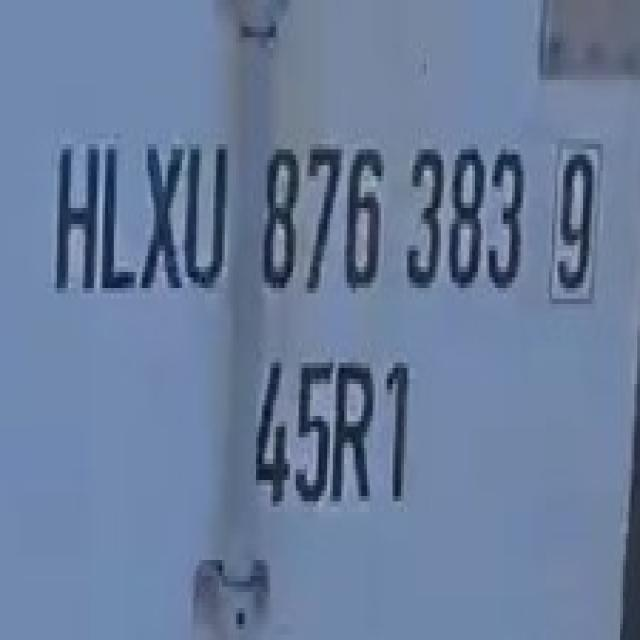dv: (538, 126, 606, 319)
owner: (49, 126, 238, 312)
serial: (252, 126, 532, 322)
size: (240, 336, 421, 526)
